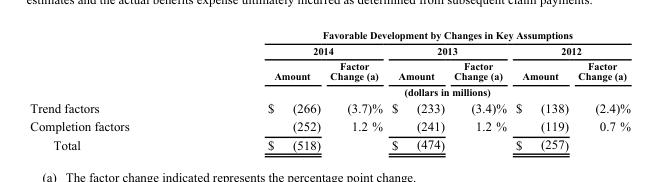table: (29, 28, 630, 151)
table column: (29, 28, 197, 151), (197, 28, 324, 151), (324, 28, 386, 151), (386, 28, 448, 151), (448, 28, 510, 151), (510, 28, 572, 151), (572, 28, 630, 151)
table column header: (29, 28, 630, 98)
table row: (29, 57, 630, 83), (29, 98, 630, 117), (29, 117, 630, 135), (29, 135, 630, 151), (29, 42, 630, 57), (29, 83, 630, 98), (29, 28, 630, 42)
table spanning cell: (197, 83, 630, 98), (197, 28, 630, 42), (197, 42, 386, 57), (386, 42, 510, 57), (510, 42, 630, 57)
